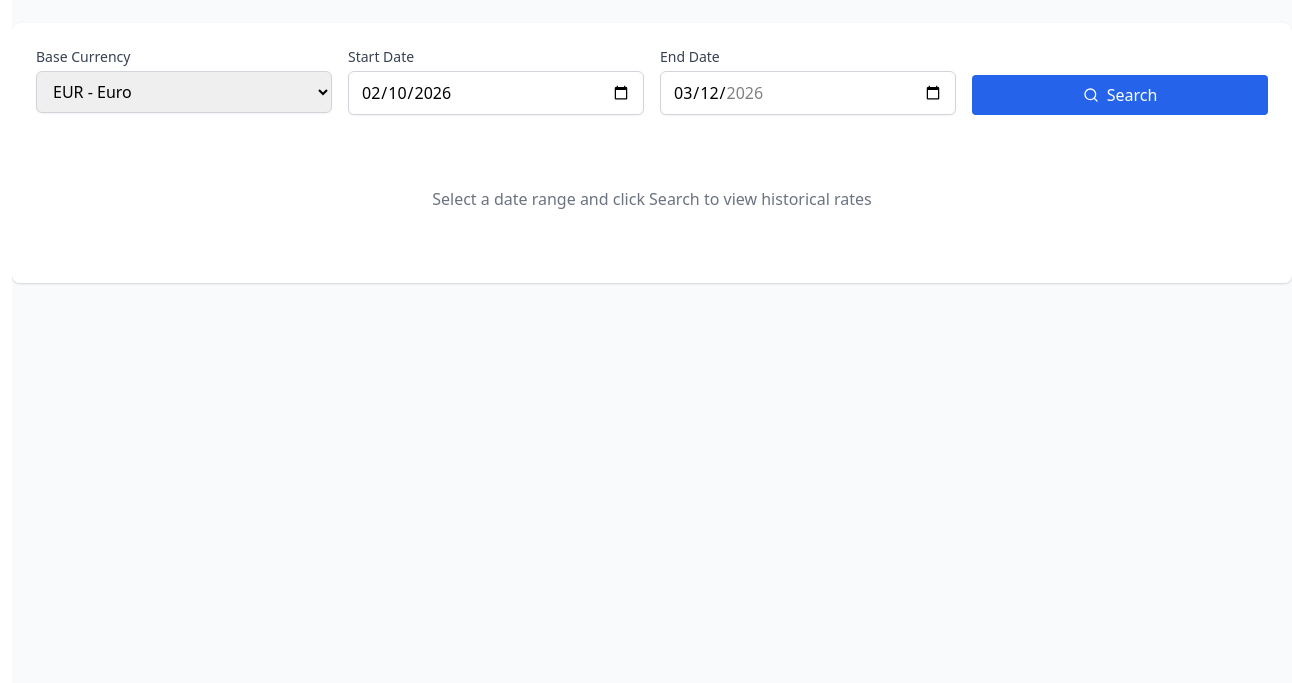
Test: HistoryPage › navigates to next page
Click the button "Search" at (1120, 95), box [972,75,1268,115]
(page scrolled)
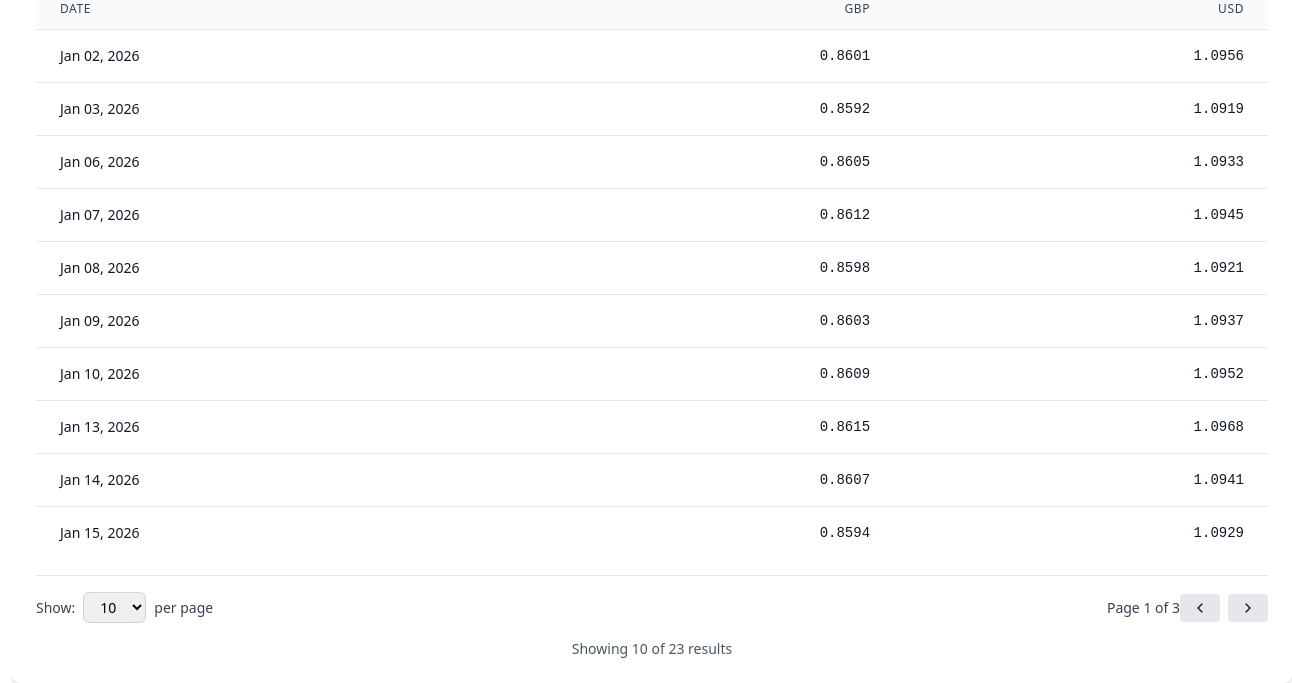
Now the text "Page 1 of 3" is shown, box [1107,598,1180,618]
Click the button named "next" at (1248, 608), box [1228,594,1268,622]
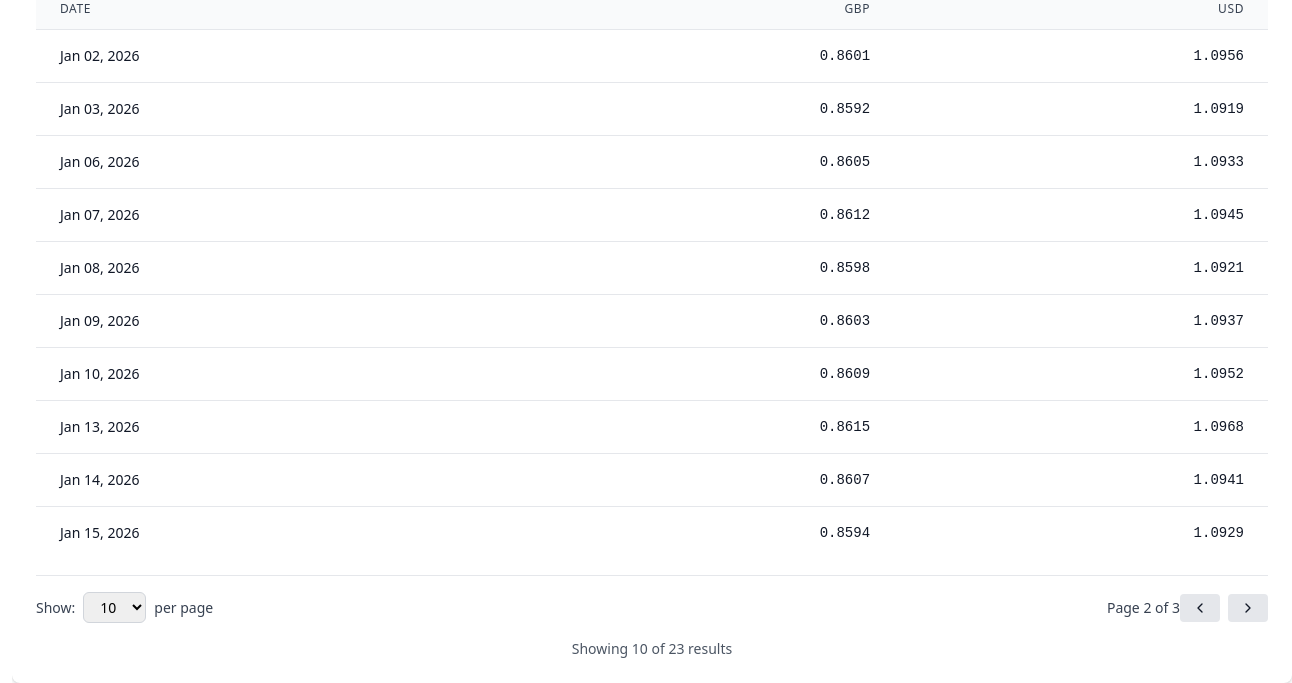
Now the text "Page 2 of 3" is shown, box [1107,598,1180,618]
